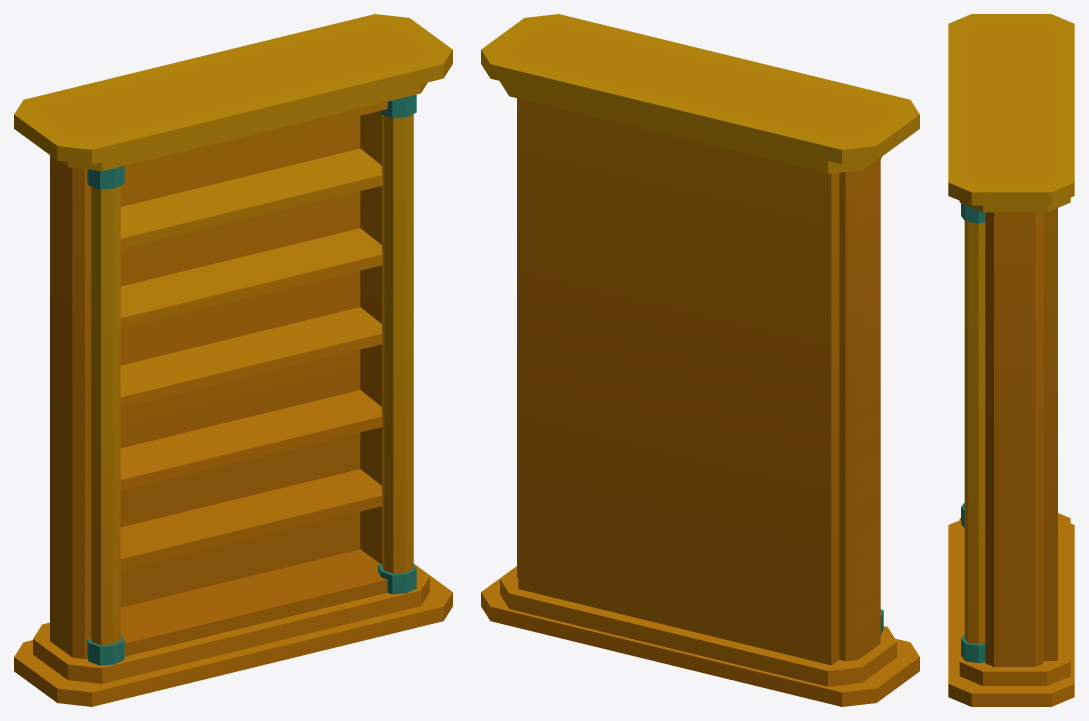
The model's file is Bookshelf_01.fbx.
3 renders of one model, left to right at view 1: azimuth 30°, elevation 25°; view 2: azimuth 150°, elevation 25°; view 3: azimuth 270°, elevation 25°, orthographic. The views are drawn at different scales.
Parts seen in each view (by area): view 1: Bookshelf 01; view 2: Bookshelf 01; view 3: Bookshelf 01.
Boxes of the visible parts, bbox=[...] form: Bookshelf 01: bbox=[14, 14, 452, 706]; Bookshelf 01: bbox=[481, 14, 919, 706]; Bookshelf 01: bbox=[948, 14, 1074, 706].
Bounding box in the file's own units: 199 × 267 × 59.62.
